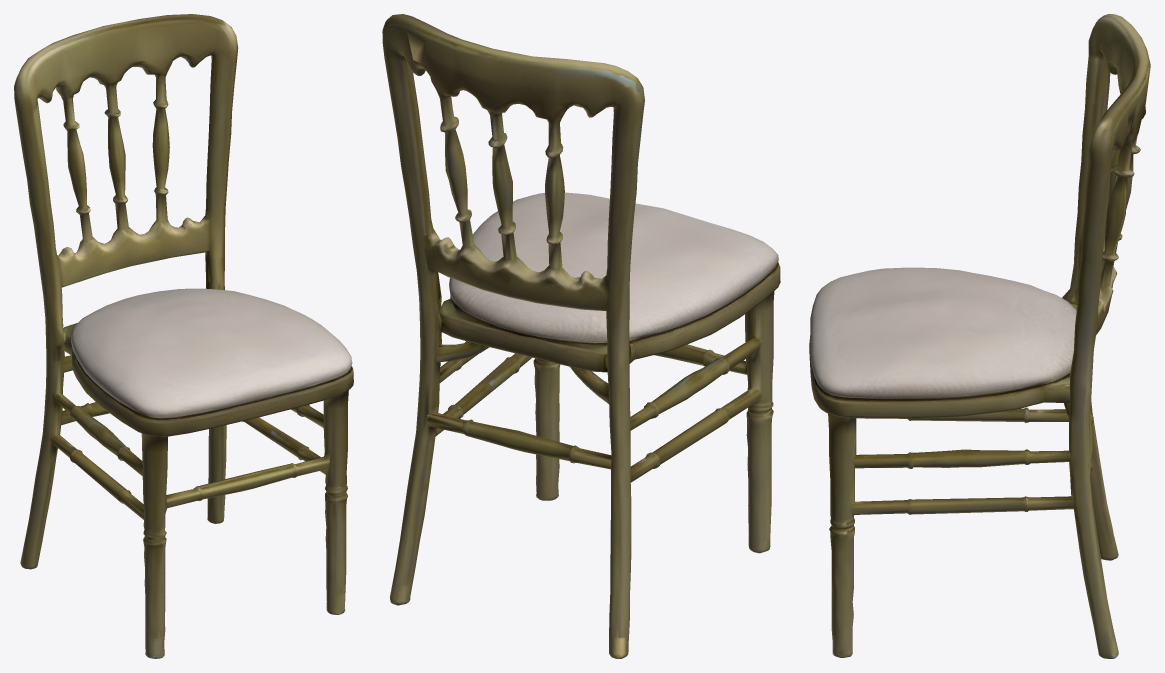
The model's file is CHATEAU_Wood_Chair_Gold_with_seat_Pad_0403042426_texture.glb.
3 views of the same model, side by side, from view 1: azimuth 30°, elevation 25°; view 2: azimuth 150°, elevation 25°; view 3: azimuth 270°, elevation 25° (orthographic). The views are drawn at different scales.
Parts seen in each view (by area): view 1: Mesh_0.001; view 2: Mesh_0.001; view 3: Mesh_0.001.
Part boxes in pixels (<box>): Mesh_0.001: <box>14,14,353,658</box>; Mesh_0.001: <box>382,14,780,658</box>; Mesh_0.001: <box>809,14,1150,658</box>.
Size of the model in its own units: 0.3722 by 0.8128 by 0.459.
Materials: 1 (1 with a texture image).
